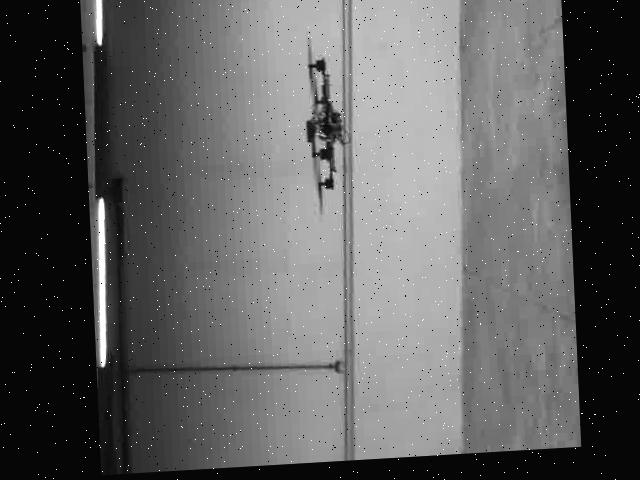drone: (299, 53, 347, 205)
